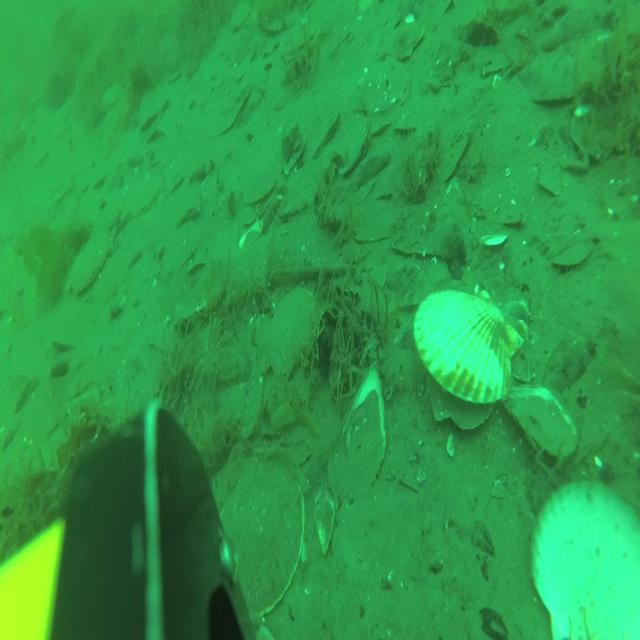scallop: (416, 279, 526, 440), (258, 283, 318, 380), (362, 53, 414, 119), (65, 225, 112, 294), (241, 154, 281, 207), (124, 166, 164, 216), (338, 119, 370, 176), (554, 235, 594, 275), (309, 106, 341, 154), (392, 20, 426, 62), (140, 97, 169, 131), (372, 109, 393, 139), (394, 111, 416, 134)
